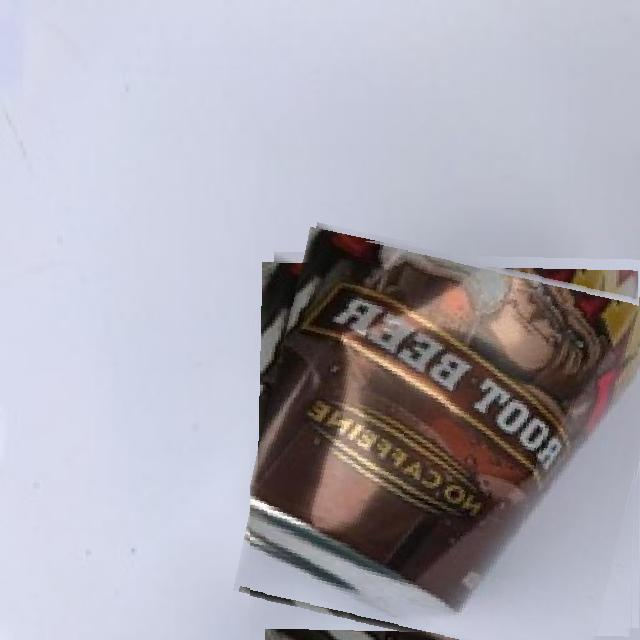recyclable: (250, 238, 640, 640)
